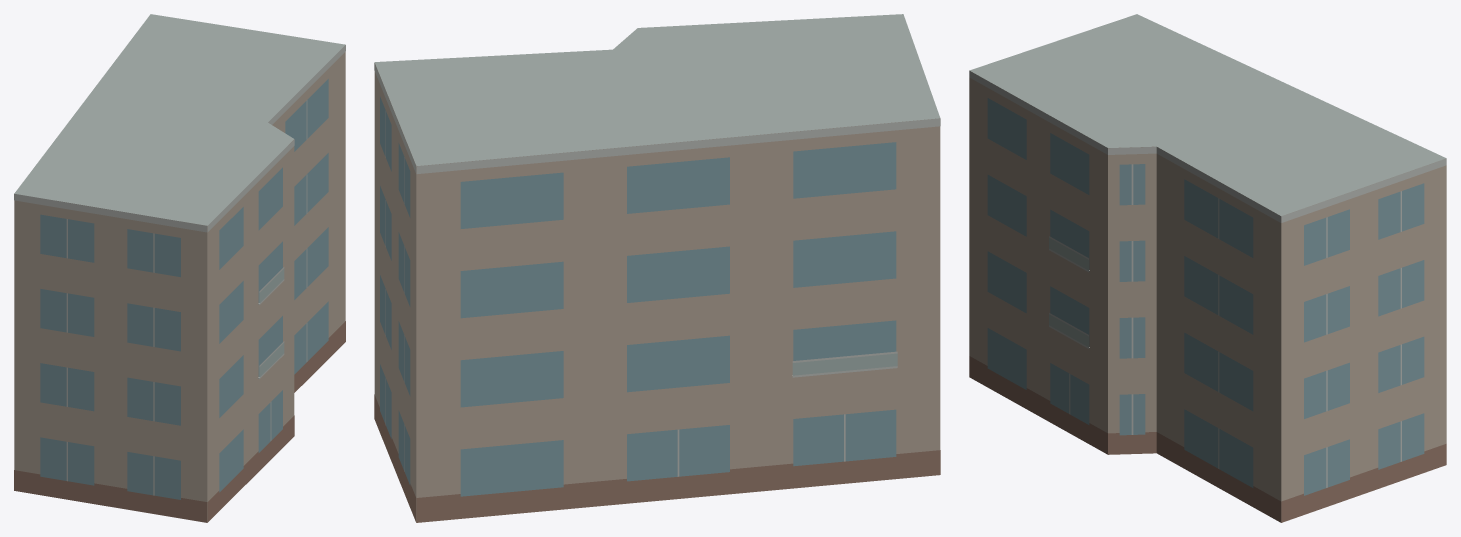
Rendered from survey-upis-33002857.glb.
The picture shows the model from 3 angles, left to right: view 1: azimuth 30°, elevation 25°; view 2: azimuth 150°, elevation 25°; view 3: azimuth 270°, elevation 25°; orthographic projection. The views are drawn at different scales.
Parts seen in each view (by area): view 1: survey-upis-33002857.tmp; view 2: survey-upis-33002857.tmp; view 3: survey-upis-33002857.tmp.
Part boxes in pixels (bbox=[...]): survey-upis-33002857.tmp: bbox=[14, 14, 345, 522]; survey-upis-33002857.tmp: bbox=[374, 14, 940, 522]; survey-upis-33002857.tmp: bbox=[969, 14, 1446, 522].
Size of the model in its own units: 15.28 by 10.8 by 15.25.
